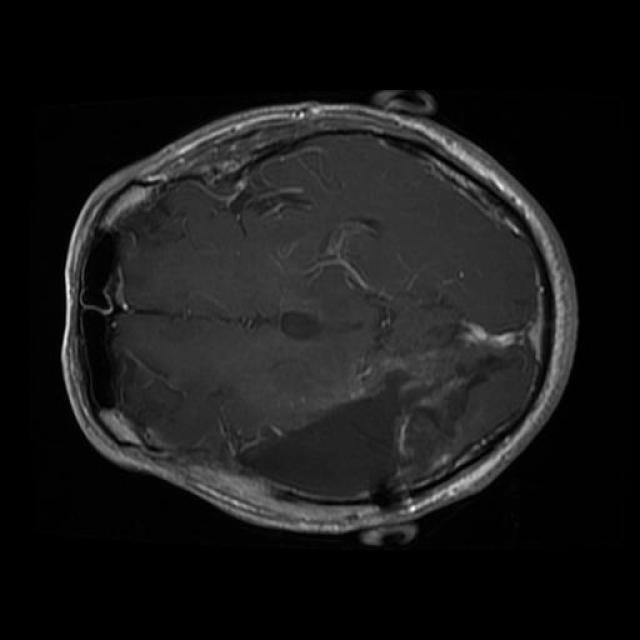Glioma: (239, 383, 399, 499)
